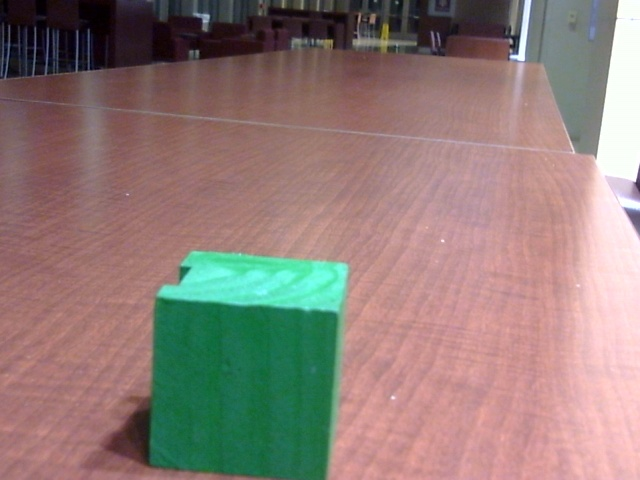GreenBlock: (148, 251, 348, 480)
